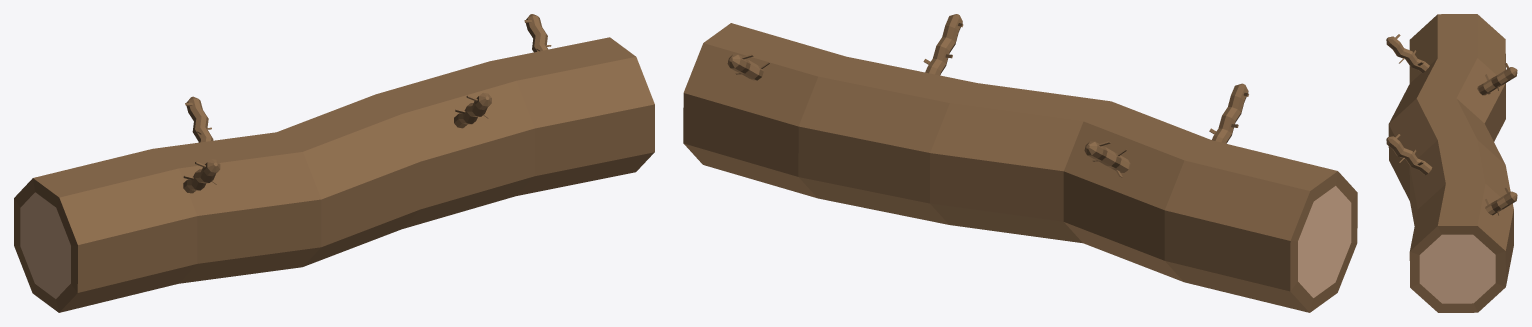
The model's file is TreeLog.glb.
3 renders of one model, left to right at view 1: azimuth 30°, elevation 25°; view 2: azimuth 150°, elevation 25°; view 3: azimuth 270°, elevation 25°, orthographic. The views are drawn at different scales.
Parts seen in each view (by area): view 1: Cylinder, Cylinder.001, Cylinder.003, Cylinder.002, Cylinder.004; view 2: Cylinder, Cylinder.001, Cylinder.003, Cylinder.002, Cylinder.004; view 3: Cylinder, Cylinder.001, Cylinder.003, Cylinder.002, Cylinder.004.
Part boxes in pixels (box(x1,y1,x2,y2)): Cylinder: box(14, 37, 654, 312); Cylinder.001: box(454, 92, 491, 128); Cylinder.003: box(183, 159, 220, 193); Cylinder.002: box(185, 96, 213, 142); Cylinder.004: box(524, 14, 551, 52); Cylinder: box(683, 23, 1357, 312); Cylinder.001: box(923, 14, 963, 75); Cylinder.003: box(1209, 83, 1248, 143); Cylinder.002: box(1084, 141, 1130, 177); Cylinder.004: box(727, 54, 769, 80); Cylinder: box(1388, 14, 1513, 312); Cylinder.001: box(1386, 134, 1432, 175); Cylinder.003: box(1386, 34, 1429, 73); Cylinder.002: box(1477, 63, 1517, 95); Cylinder.004: box(1485, 187, 1517, 215).
Bounding box in the file's own units: 4.95 × 1.19 × 1.29.
